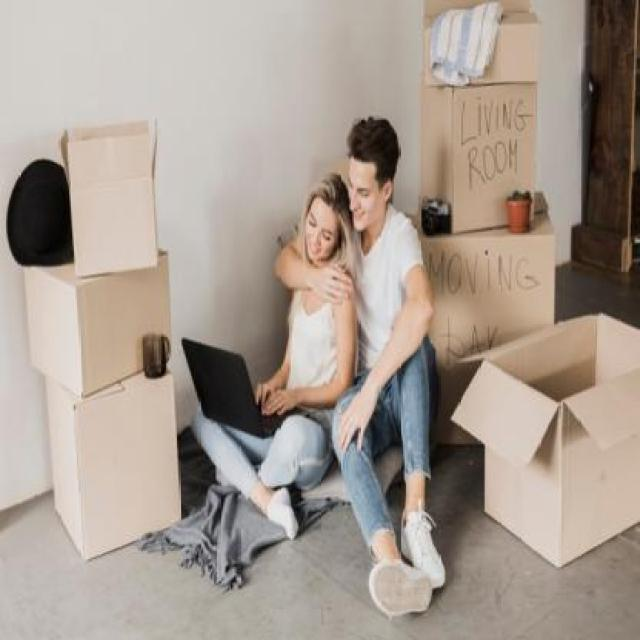box: (450, 315, 639, 587), (426, 210, 574, 479), (40, 365, 189, 568), (12, 243, 180, 412), (53, 104, 170, 318), (415, 77, 542, 232), (420, 0, 548, 96)
